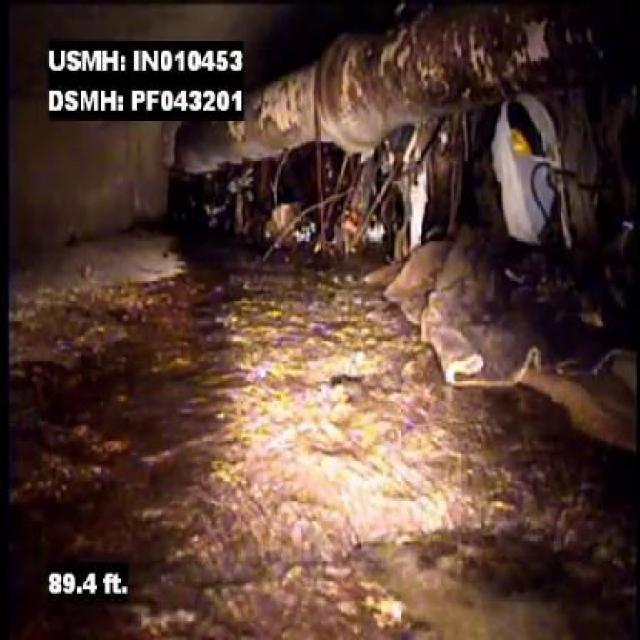Utility intrusion: (184, 0, 638, 182)
